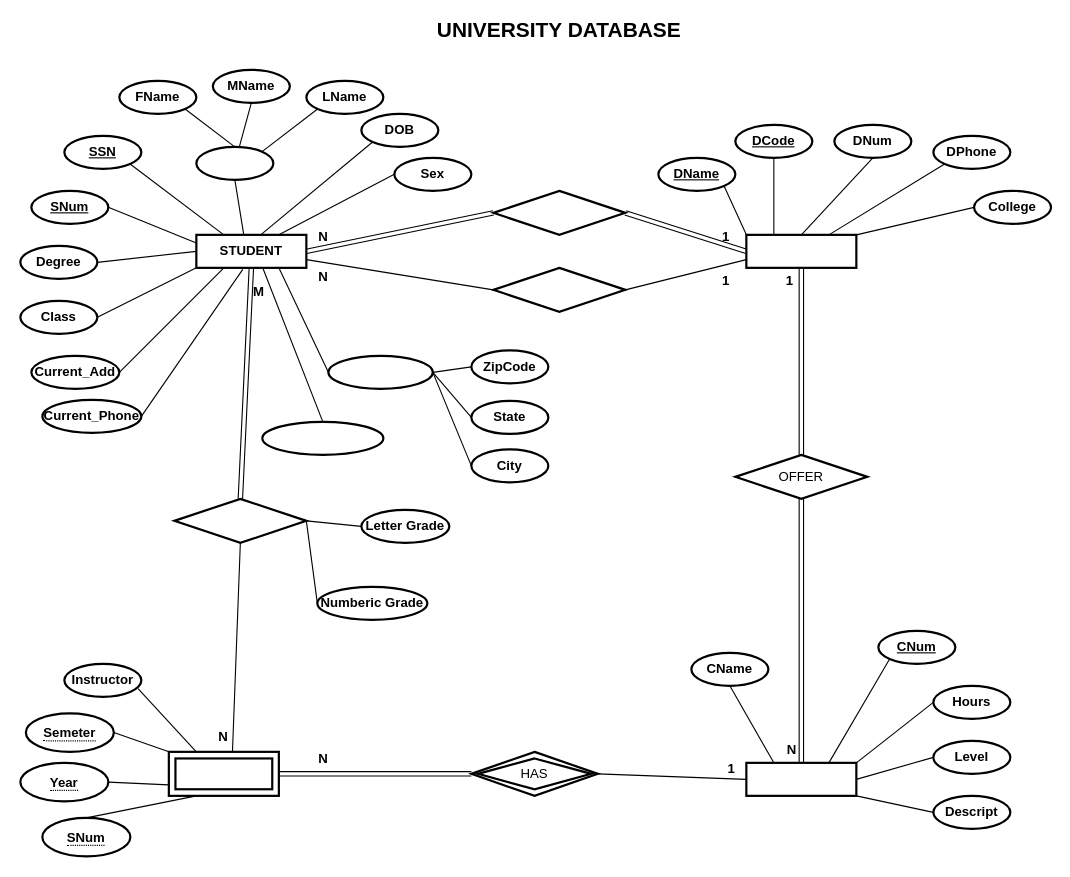
Some shapes in this 1070 by 877 pixel diagram are drawn without their labels. Here are the shapes that lost their labels. From the top down, the centre of each, then its label:
the point at 234,162: SName
the point at 559,212: HAS_MAIJOR
the point at 801,250: DEPARTMENT
the point at 559,289: HAS_MINOR
the point at 380,371: Permanent_Add
the point at 322,437: Permanent_Phone
the point at 240,520: TAKE CLASS
the point at 223,773: SECTION
the point at 801,778: COURSE
